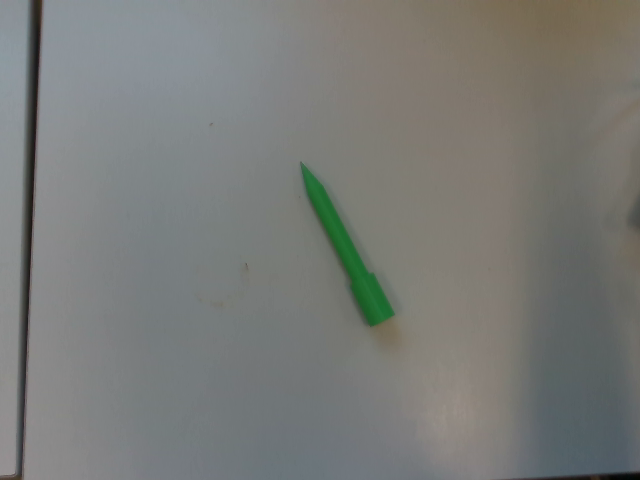Probe: (296, 154, 401, 331)
